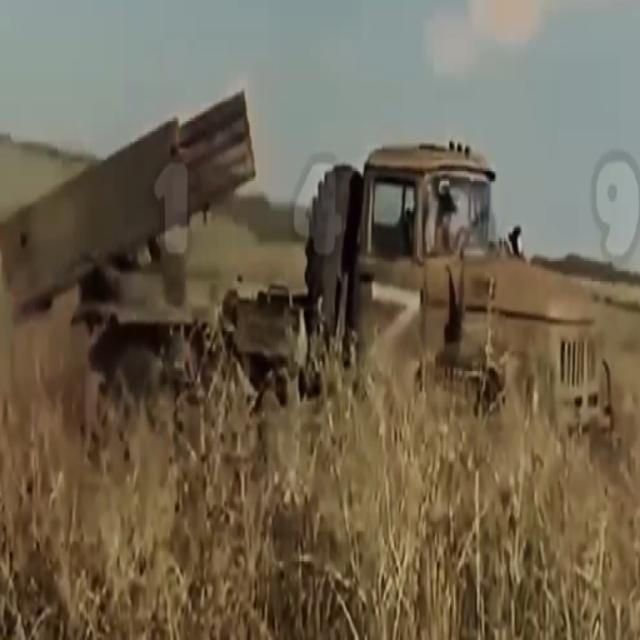MLRS: (0, 82, 611, 508)
